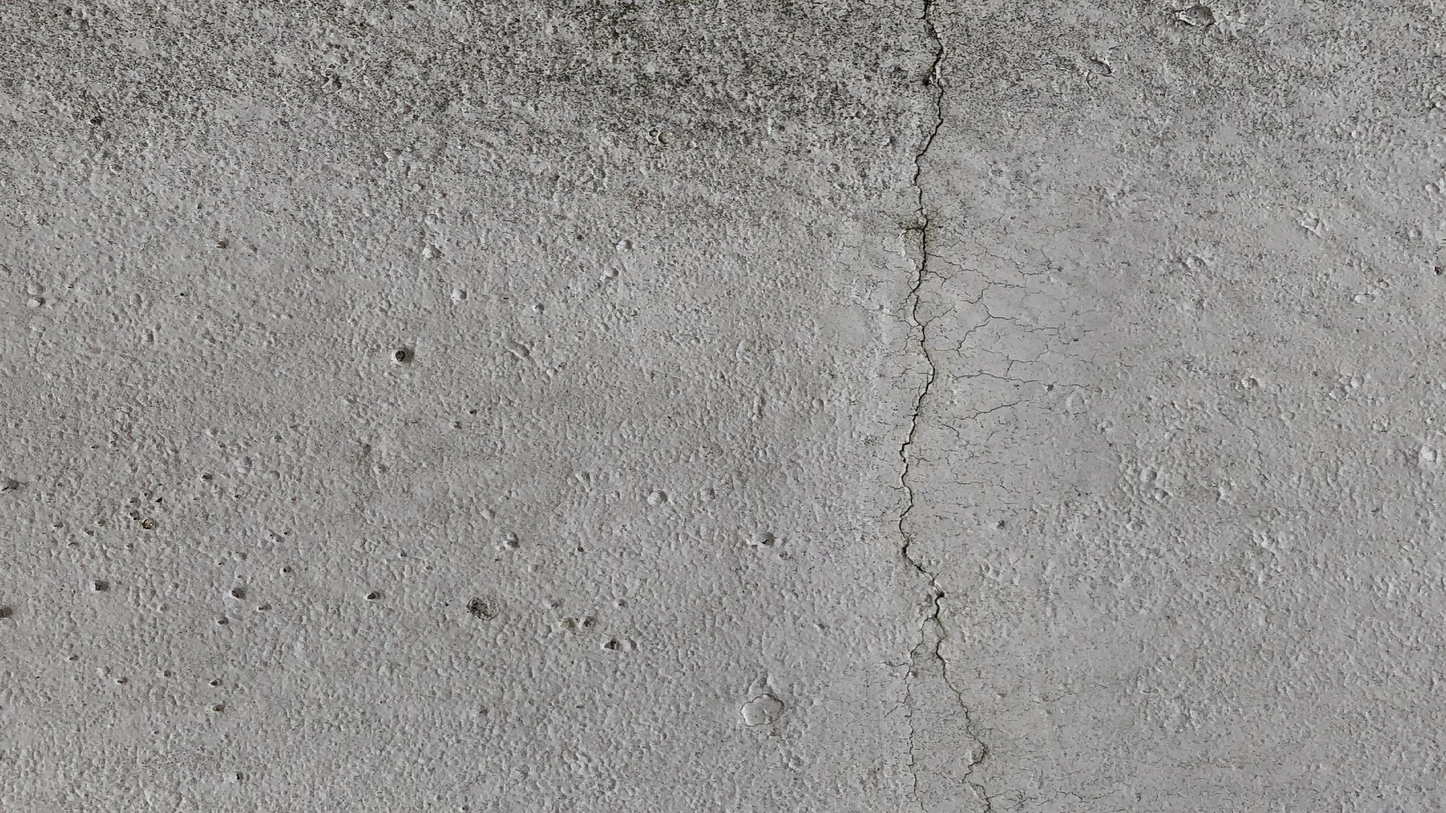crack: (896, 0, 996, 810)
